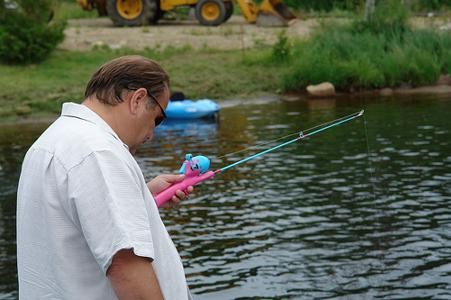person: (15, 56, 193, 300)
